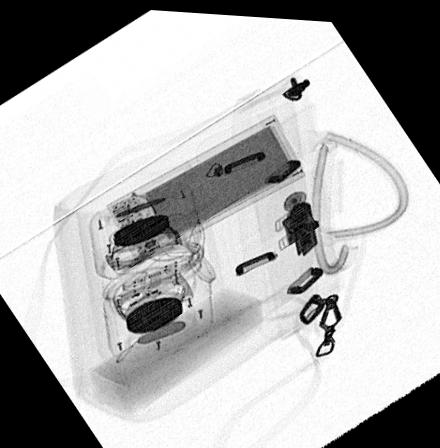Powerbank: (105, 108, 307, 265)
